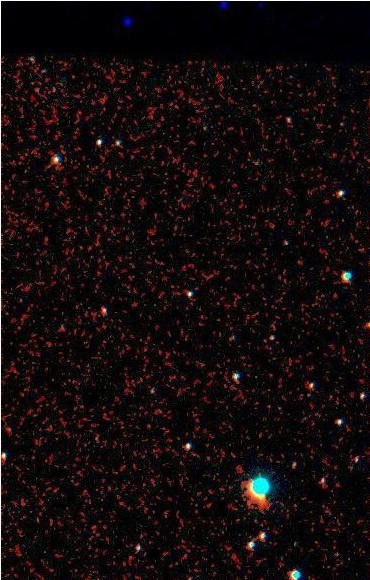star: (247, 486, 277, 516)
